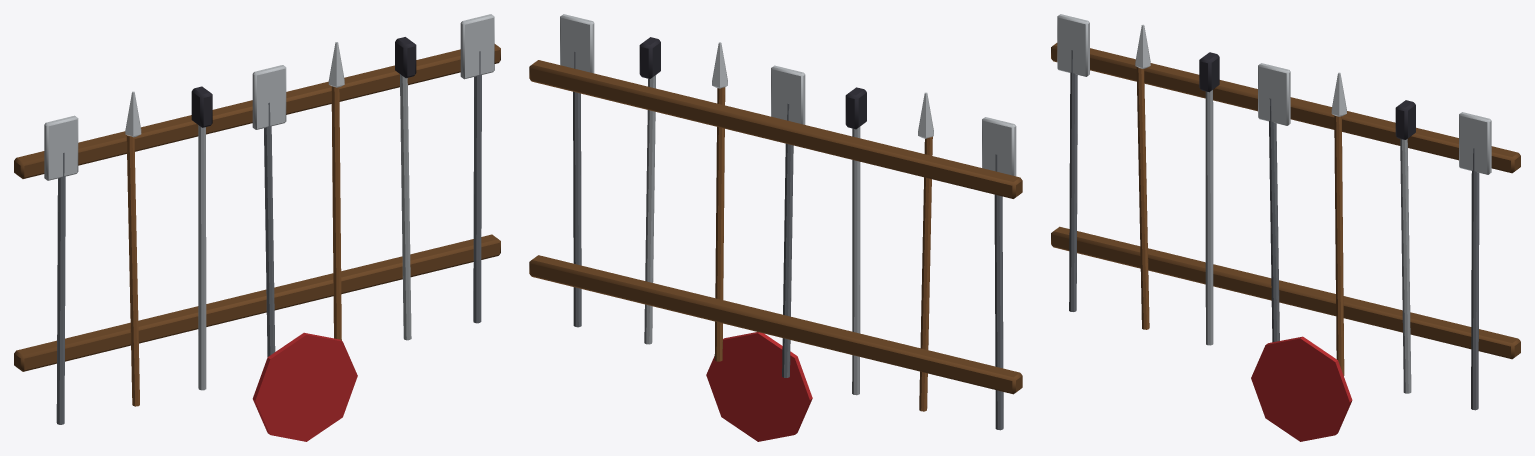
Rendered from weapon_rack.glb.
The picture shows the model from 3 angles, left to right: view 1: azimuth 30°, elevation 25°; view 2: azimuth 150°, elevation 25°; view 3: azimuth 330°, elevation 25°; orthographic projection. The views are drawn at different scales.
Parts seen in each view (by area): view 1: weapon_rack; view 2: weapon_rack; view 3: weapon_rack.
Part boxes in pixels (x1,y1,x2,y2): weapon_rack: (14,14,500,441); weapon_rack: (529,14,1022,441); weapon_rack: (1051,14,1520,441).
Bounding box in the file's own units: 3 × 2.31 × 0.24.
